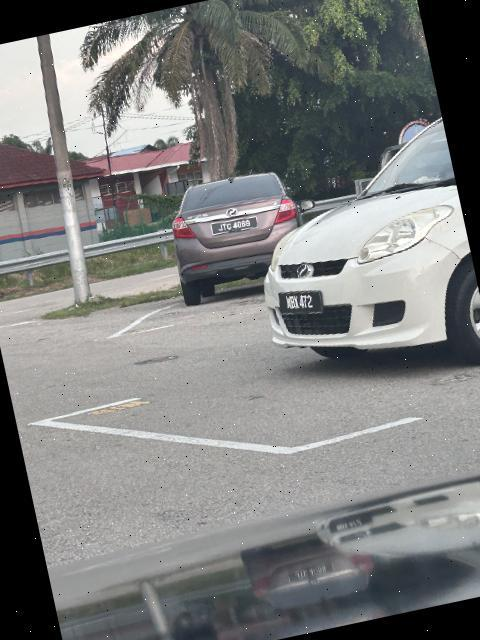JTC4069: (209, 213, 264, 239)
License_Plate: (279, 281, 326, 323), (209, 213, 264, 239)
MBX5689: (279, 281, 326, 323)
car: (232, 109, 480, 408), (161, 158, 333, 308)
